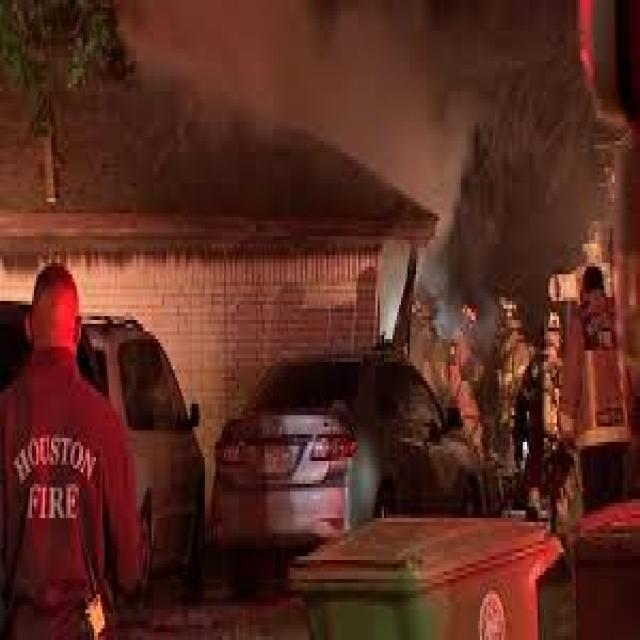Smoke: (141, 3, 448, 214)
